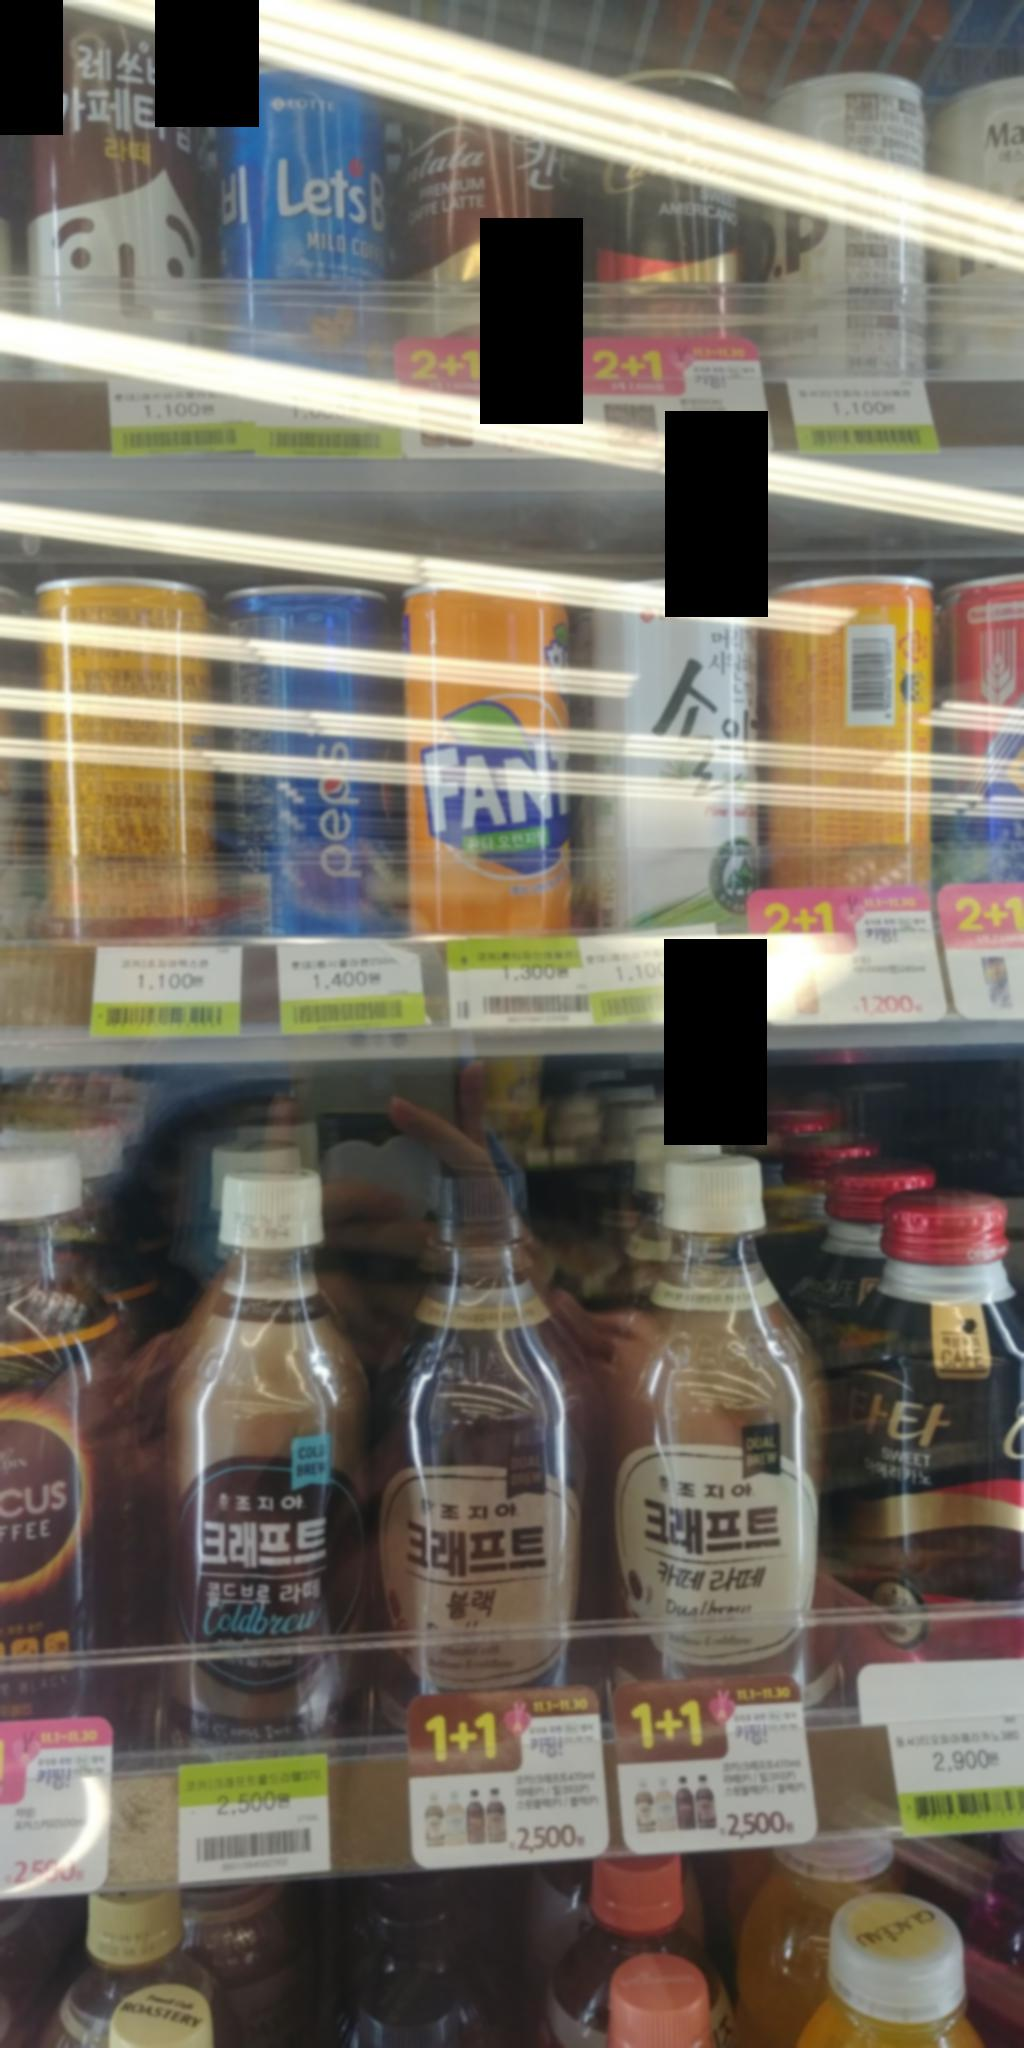georgiacraft_black: (364, 1148, 596, 1732)
letsbe: (208, 56, 397, 384)
